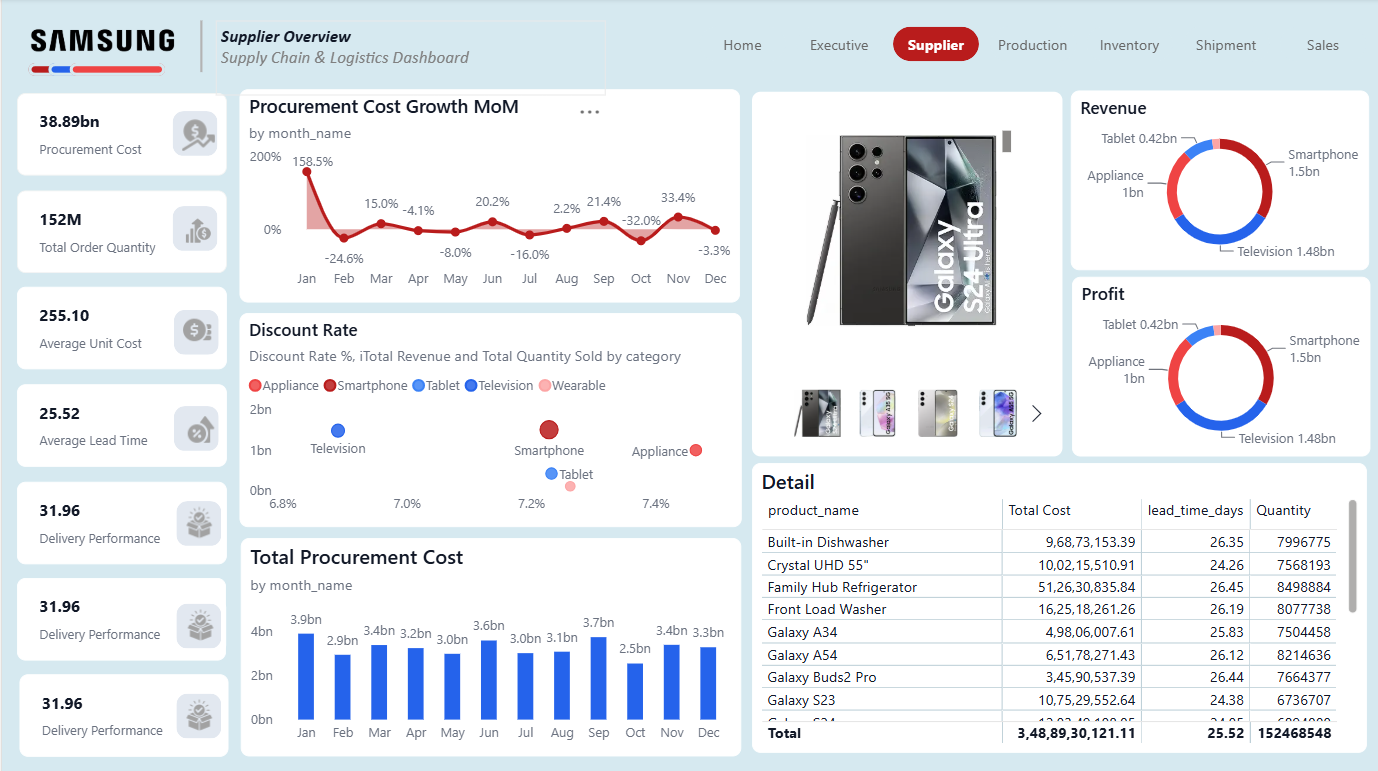

The dashboard page shown, as its layout file describes it:
{"tool":"powerbi","page":{"name":"Supplier","canvas":[1280,720],"ordinal":2},"visuals":[{"type":"shape","box":[698.1,86.9,288.7,338.9],"z":0},{"type":"cardVisual","fields":{"Data":["MeasureTable.Delivery Performance Score"]},"box":[13.7,449.5,195,77],"z":1000},{"type":"tableEx","title":"Detail","fields":{"Values":["dim_product.product_name","MeasureTable.Total Cost","Avg(fact_procurement.lead_time_days)","MeasureTable.Total Order Quantity"]},"box":[697.9,433,572.3,269.9],"z":2000},{"type":"areaChart","fields":{"Category":["dim_date.month_name"],"Y":["MeasureTable.Procurement Cost Growth MoM"]},"box":[220.9,85.4,465.7,198.3],"z":3000},{"type":"scatterChart","title":"Discount Rate ","fields":{"X":["MeasureTable.Discount Rate %"],"Y":["MeasureTable.iTotal Revenue"],"Size":["MeasureTable.Total Quantity Sold"],"Series":["dim_product.category"]},"box":[220.9,292.5,466.9,199.6],"z":4000},{"type":"clusteredColumnChart","fields":{"Category":["dim_date.month_name"],"Y":["MeasureTable.Total Procurement Cost"]},"box":[222.2,502.1,465.7,203.3],"z":5000},{"type":"cardVisual","fields":{"Data":["MeasureTable.Total Procurement Cost"]},"box":[13.7,88.6,195,77],"z":6000},{"type":"cardVisual","fields":{"Data":["MeasureTable.Average Lead Time Days"]},"box":[13.7,359.3,195,77],"z":7000},{"type":"cardVisual","fields":{"Data":["MeasureTable.Average Unit Cost"]},"box":[13.7,269,195,77],"z":8000},{"type":"cardVisual","fields":{"Data":["MeasureTable.Total Order Quantity"]},"box":[13.7,178.8,195,77],"z":9000},{"type":"shape","box":[154.6,101.3,50,50],"z":10000},{"type":"shape","box":[154.9,189.5,50,50],"z":11000},{"type":"shape","box":[156.1,376,50,50],"z":12000},{"type":"shape","box":[155.8,286.3,50,50],"z":13000},{"type":"shape","box":[158.5,464.3,50,50],"z":14000},{"type":"image","box":[162.8,106.6,40.5,40.5],"z":15000},{"type":"image","box":[165.7,198.6,32.9,35.4],"z":16000},{"type":"image","box":[165.7,381.3,40.5,40.5],"z":17000},{"type":"image","box":[162.9,288.7,38.1,40.5],"z":18000},{"type":"image","box":[164.4,467.9,39.3,40.5],"z":19000},{"type":"advancedSlicerVisual","fields":{"Values":["dim_product.Img"]},"box":[742,118.2,202.1,195.8],"z":20000},{"type":"advancedSlicerVisual","fields":{"Values":["dim_product.Img"]},"box":[705.4,355.2,276.1,64],"z":21000},{"type":"donutChart","title":"Revenue","fields":{"Y":["MeasureTable.iTotal Revenue"],"Category":["dim_product.category"]},"box":[994.1,86.6,277.4,166.9],"z":22000},{"type":"cardVisual","fields":{"Data":["MeasureTable.Delivery Performance Score"]},"box":[13.8,539.7,194.5,76.6],"z":23000},{"type":"shape","box":[158.6,559.2,50,50],"z":24000},{"type":"image","box":[164.6,562.8,39.3,40.5],"z":25000},{"type":"donutChart","title":"Profit","fields":{"Y":["MeasureTable.iTotal Revenue"],"Category":["dim_product.category"]},"box":[995.3,259.8,277.4,166.9],"z":26000},{"type":"cardVisual","fields":{"Data":["MeasureTable.Delivery Performance Score"]},"box":[15.8,629.5,194.5,76.6],"z":27000},{"type":"shape","box":[158.2,642.8,50,50],"z":28000},{"type":"image","box":[164.2,646.4,39.3,40.5],"z":29000},{"type":"image","box":[11.3,15.1,158.1,47.7],"z":30000},{"type":"pageNavigator","box":[648.8,26.2,621.4,32.1],"z":31000},{"type":"shape","box":[156.9,21.5,56.9,48.1],"z":32000},{"type":"shape","box":[23.9,60,89.1,12],"z":33000},{"type":"shape","box":[42.7,60,89.1,12],"z":34000},{"type":"shape","box":[62.8,60,89.1,12],"z":35000},{"type":"textbox","box":[198.3,21.3,362.7,69],"z":36000}]}

Visuals, with their boxes in screenshot pixels (x1, y1, x2, y2), scaled from the page's 1280x720 canvas onto the 1378x771 screenshot:
shape: 752, 93, 1062, 456
cardVisual - MeasureTable.Delivery Performance Score: 15, 481, 225, 564
"Detail" tableEx: 751, 464, 1367, 753
areaChart - dim_date.month_name x MeasureTable.Procurement Cost Growth MoM: 238, 91, 739, 304
"Discount Rate " scatterChart: 238, 313, 740, 527
clusteredColumnChart - dim_date.month_name x MeasureTable.Total Procurement Cost: 239, 538, 741, 755
cardVisual - MeasureTable.Total Procurement Cost: 15, 95, 225, 177
cardVisual - MeasureTable.Average Lead Time Days: 15, 385, 225, 467
cardVisual - MeasureTable.Average Unit Cost: 15, 288, 225, 371
cardVisual - MeasureTable.Total Order Quantity: 15, 191, 225, 274
shape: 166, 108, 220, 162
shape: 167, 203, 221, 256
shape: 168, 403, 222, 456
shape: 168, 307, 222, 360
shape: 171, 497, 224, 551
image: 175, 114, 219, 158
image: 178, 213, 214, 251
image: 178, 408, 222, 452
image: 175, 309, 216, 353
image: 177, 501, 219, 544
advancedSlicerVisual - dim_product.Img: 799, 127, 1016, 336
advancedSlicerVisual - dim_product.Img: 759, 380, 1057, 449
"Revenue" donutChart: 1070, 93, 1369, 271
cardVisual - MeasureTable.Delivery Performance Score: 15, 578, 224, 660
shape: 171, 599, 225, 652
image: 177, 603, 220, 646
"Profit" donutChart: 1072, 278, 1370, 457
cardVisual - MeasureTable.Delivery Performance Score: 17, 674, 226, 756
shape: 170, 688, 224, 742
image: 177, 692, 219, 736
image: 12, 16, 182, 67
pageNavigator: 698, 28, 1367, 62
shape: 169, 23, 230, 75
shape: 26, 64, 122, 77
shape: 46, 64, 142, 77
shape: 68, 64, 164, 77
textbox: 213, 23, 604, 97
